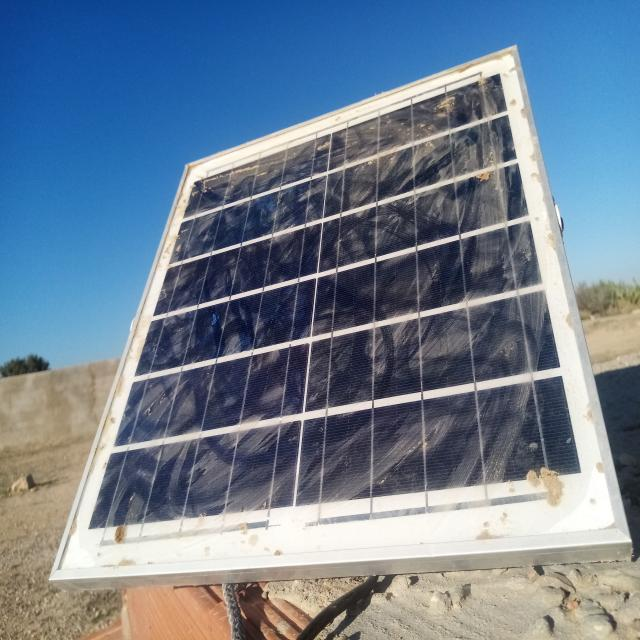faulty: (51, 45, 626, 578)
